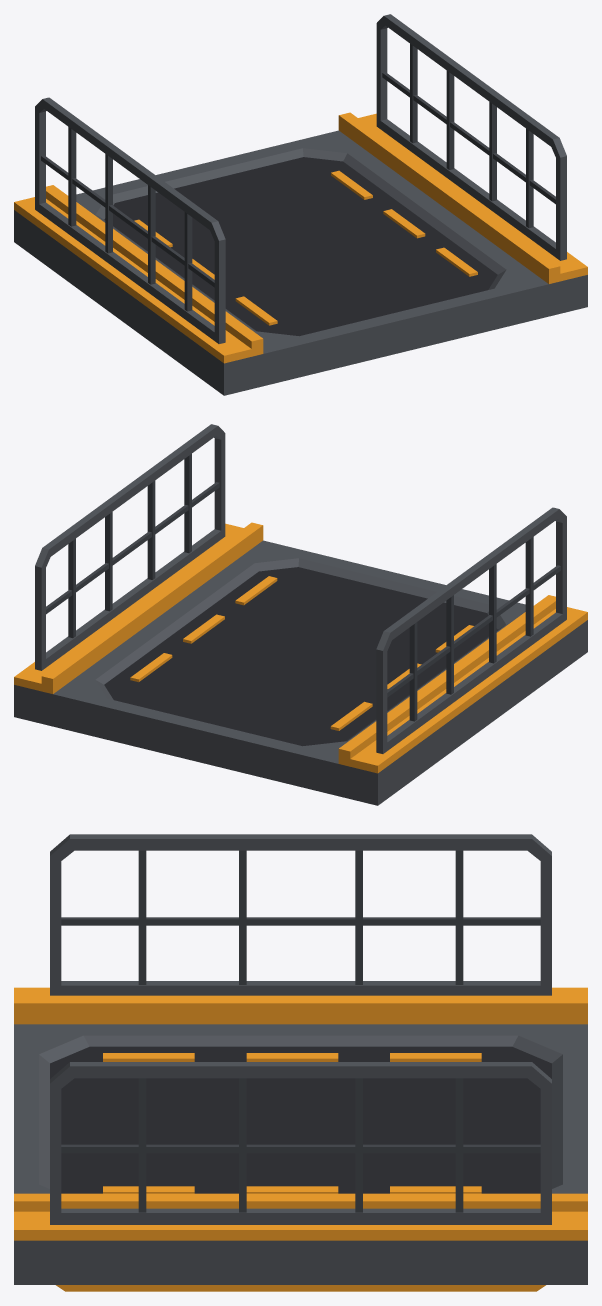
Rendered from SM_direct_platform.glb.
The picture shows the model from 3 angles, top to bottom: view 1: azimuth 30°, elevation 25°; view 2: azimuth 150°, elevation 25°; view 3: azimuth 270°, elevation 25°; orthographic projection. The views are drawn at different scales.
Parts seen in each view (by area): view 1: SM_direct_platform; view 2: SM_direct_platform; view 3: SM_direct_platform.
Boxes of the visible parts, <box> form: SM_direct_platform: <box>14,14,587,395</box>; SM_direct_platform: <box>14,424,587,805</box>; SM_direct_platform: <box>14,834,587,1291</box>.
Bounding box in the file's own units: 4 × 1.77 × 4.
Materials: 1 (1 with a texture image).
